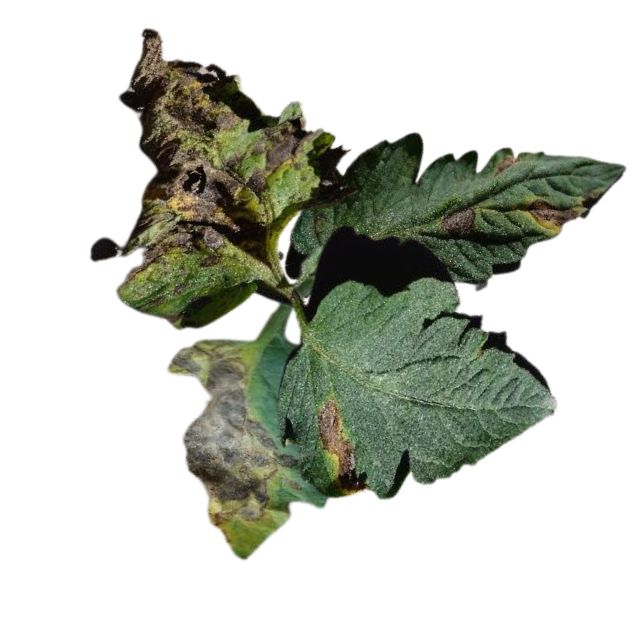Early_blight: (123, 26, 308, 269), (169, 339, 301, 528), (314, 400, 366, 495), (528, 199, 584, 235), (438, 206, 476, 238), (493, 150, 522, 174)
